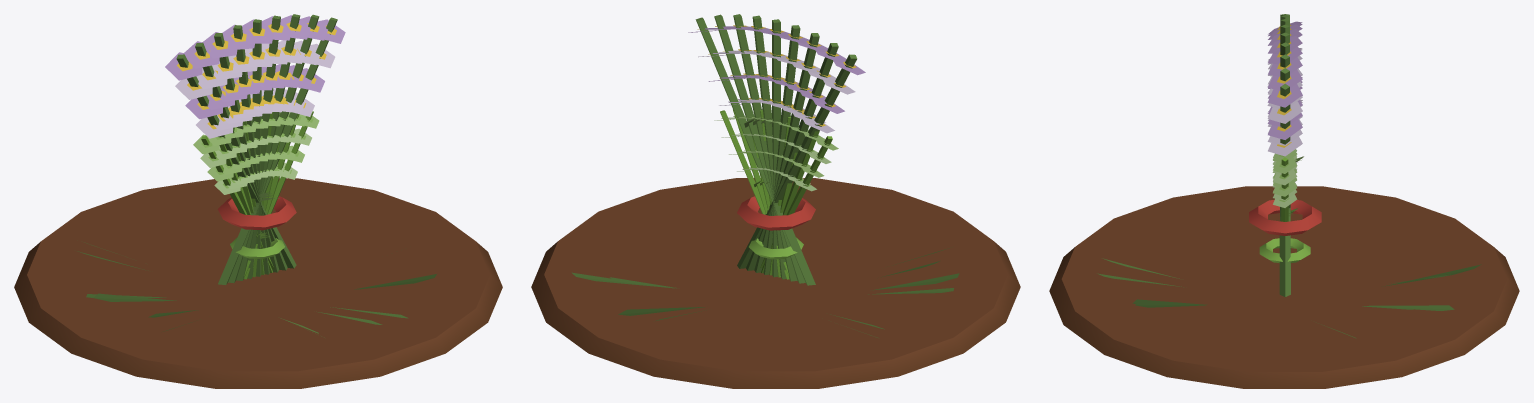
File: savory-w5.glb
3 renders of one model, left to right at view 1: azimuth 30°, elevation 25°; view 2: azimuth 150°, elevation 25°; view 3: azimuth 270°, elevation 25°, orthographic. The views are drawn at different scales.
Visible parts, largest first — view 1: crop-savory-giant-2, crop-savory-giant; view 2: crop-savory-giant-2, crop-savory-giant; view 3: crop-savory-giant-2, crop-savory-giant.
Part boxes in pixels (x1,y1,x2,y2): crop-savory-giant-2: [23, 111, 493, 375]; crop-savory-giant: [14, 14, 502, 388]; crop-savory-giant-2: [540, 109, 1011, 375]; crop-savory-giant: [531, 14, 1020, 388]; crop-savory-giant-2: [1058, 149, 1510, 376]; crop-savory-giant: [1049, 14, 1519, 388].
Bounding box in the file's own units: 5.61 × 3.56 × 5.7.
